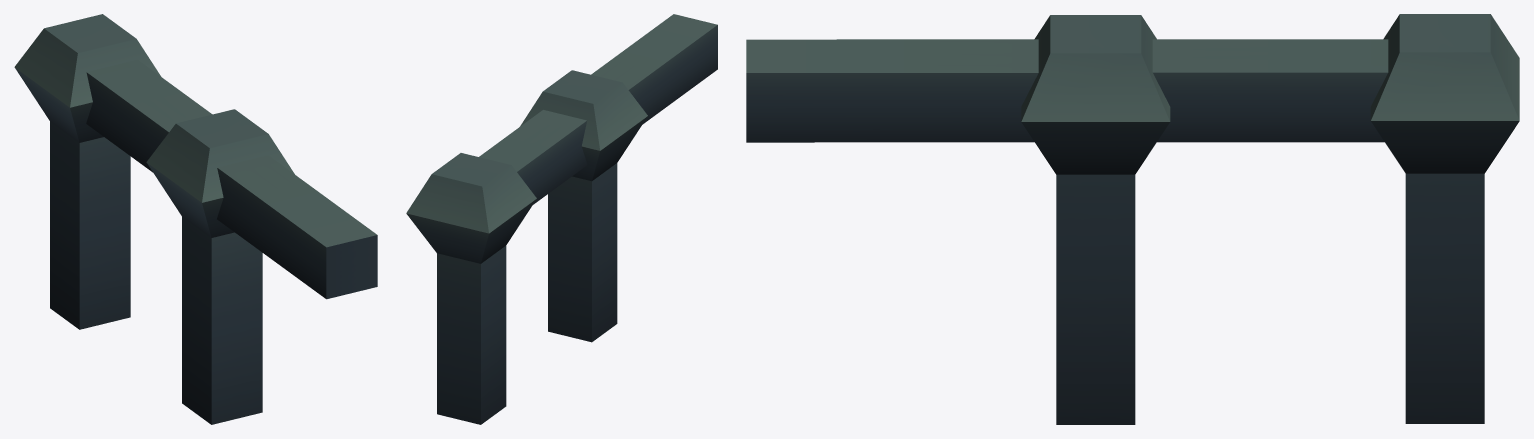
File: handrail1_straight_tile_LOD_setup.fbx
The picture shows the model from 3 angles, left to right: view 1: azimuth 30°, elevation 25°; view 2: azimuth 150°, elevation 25°; view 3: azimuth 270°, elevation 25°; orthographic projection. The views are drawn at different scales.
Visible parts, largest first — view 1: handrail1_straight_tile_LOD0; view 2: handrail1_straight_tile_LOD0; view 3: handrail1_straight_tile_LOD0.
Boxes of the visible parts, bbox=[...] form: handrail1_straight_tile_LOD0: bbox=[14, 14, 377, 424]; handrail1_straight_tile_LOD0: bbox=[406, 14, 717, 424]; handrail1_straight_tile_LOD0: bbox=[746, 14, 1519, 424].
Size of what is drawn, in the model's own units: 21.64 by 59.05 by 111.
